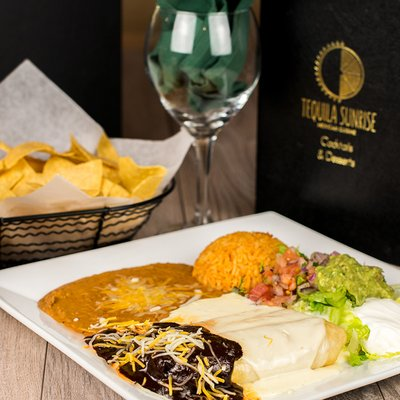curry: (314, 252, 398, 309)
